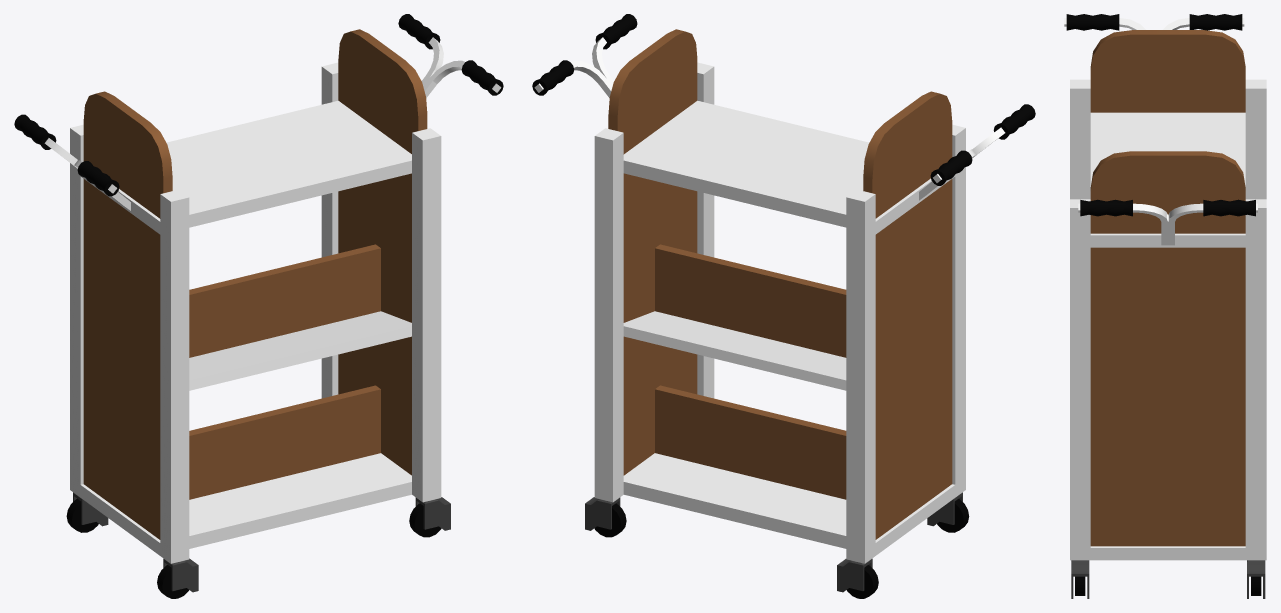
File: bookcart.fbx
3 views of the same model, side by side, from view 1: azimuth 30°, elevation 25°; view 2: azimuth 150°, elevation 25°; view 3: azimuth 270°, elevation 25° (orthographic). The views are drawn at different scales.
Parts seen in each view (by area): view 1: Box001, Box009, Box010, Box011, Cylinder003, Cylinder002, Tube001, Box014, Box012; view 2: Box001, Box009, Box010, Box011, Cylinder003, Cylinder002, Tube001, Box015, Box013; view 3: Box009, Box001, Cylinder003, Cylinder002, Tube001, Tube002, Box012, Box013.
Boxes of the visible parts, x1,y1,x2,y2 form: Box001: (70, 62, 441, 563); Box009: (83, 29, 427, 539); Box010: (189, 385, 380, 499); Box011: (189, 244, 380, 357); Cylinder003: (14, 114, 119, 196); Cylinder002: (398, 14, 503, 95); Tube001: (421, 37, 501, 97); Box014: (163, 558, 198, 592); Box012: (415, 497, 450, 530); Box001: (594, 62, 965, 563); Box009: (608, 29, 952, 539); Box010: (655, 385, 846, 499); Box011: (655, 244, 846, 357); Cylinder003: (930, 104, 1035, 185); Cylinder002: (532, 14, 637, 95); Tube001: (534, 37, 613, 97); Box015: (837, 558, 872, 592); Box013: (585, 497, 620, 530); Box009: (1090, 30, 1245, 546); Box001: (1070, 79, 1266, 560); Cylinder003: (1066, 14, 1242, 30); Cylinder002: (1080, 199, 1255, 216); Tube001: (1078, 203, 1257, 245); Tube002: (1064, 18, 1244, 29); Box012: (1071, 560, 1089, 598); Box013: (1247, 560, 1265, 598).
Size of the model in its own units: 132 by 141 by 58.55.
